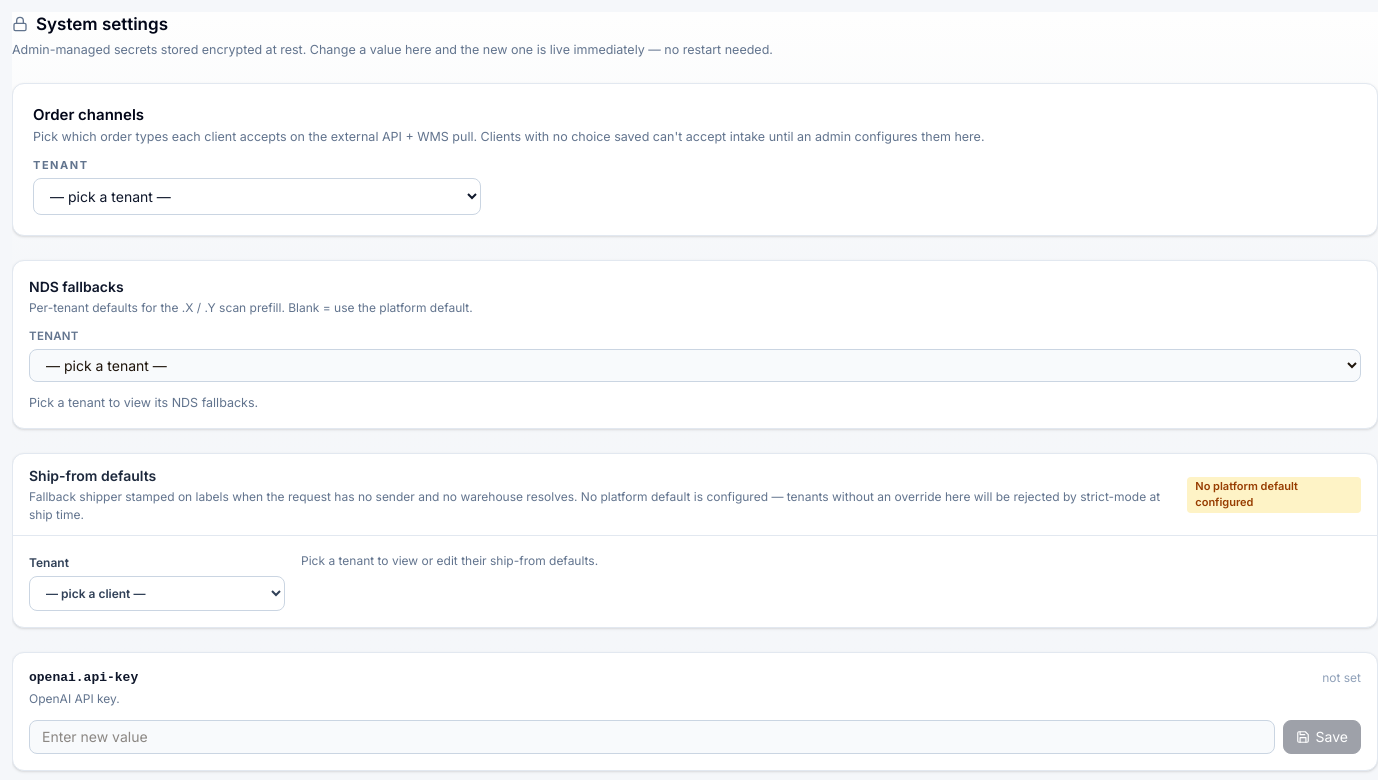
Test: SystemSettingsPage — Save button gating › Save button is ENABLED once the input has a non-blank value
Type "sk-newkey" into the password field with placeholder "Enter new value" at (652,737), box [29,720,1275,754]
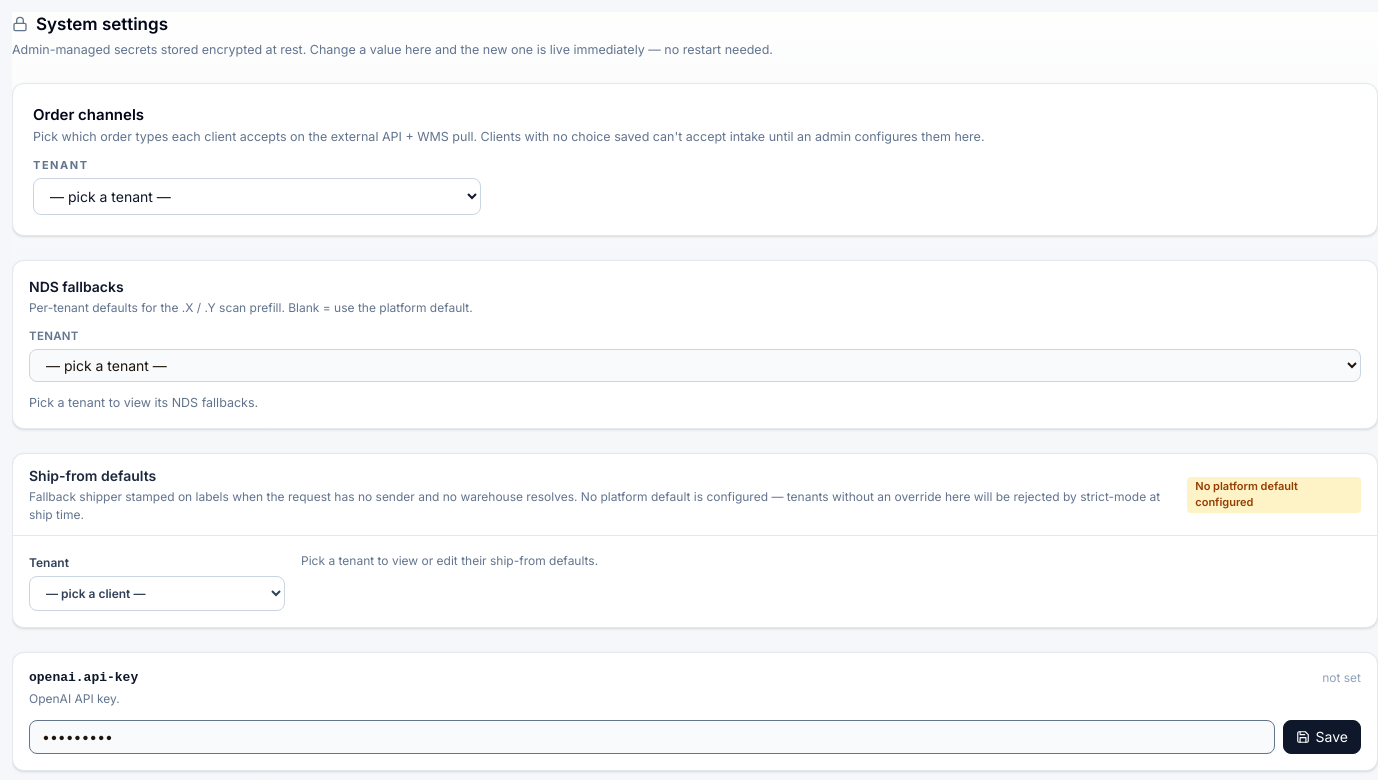
Now the button "Save" is enabled, box [1283,720,1361,754]
